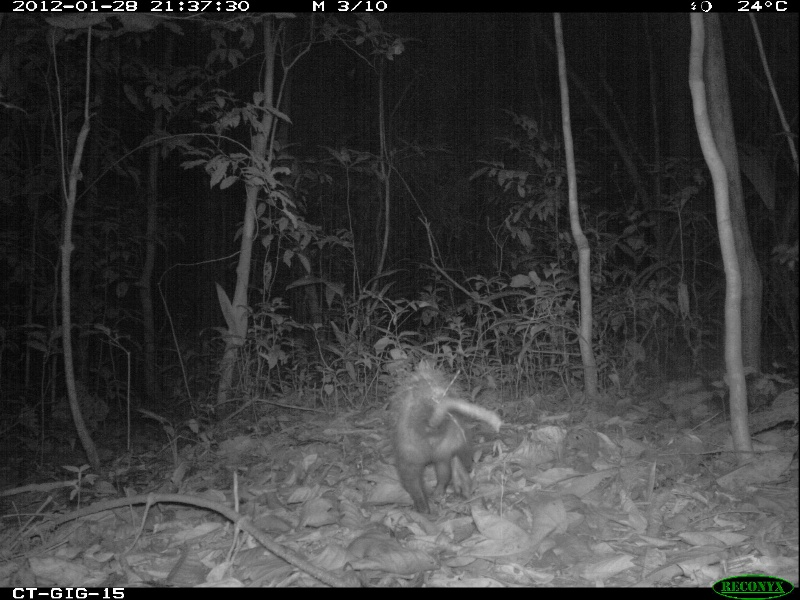opossum: (379, 357, 528, 519)
